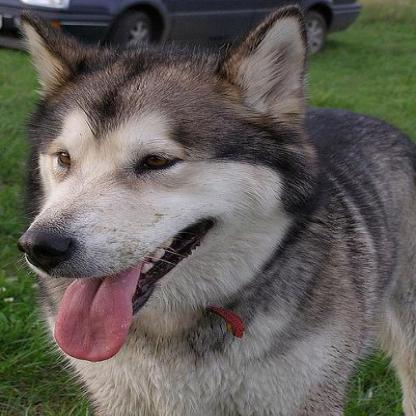malamute: (14, 5, 413, 413)
